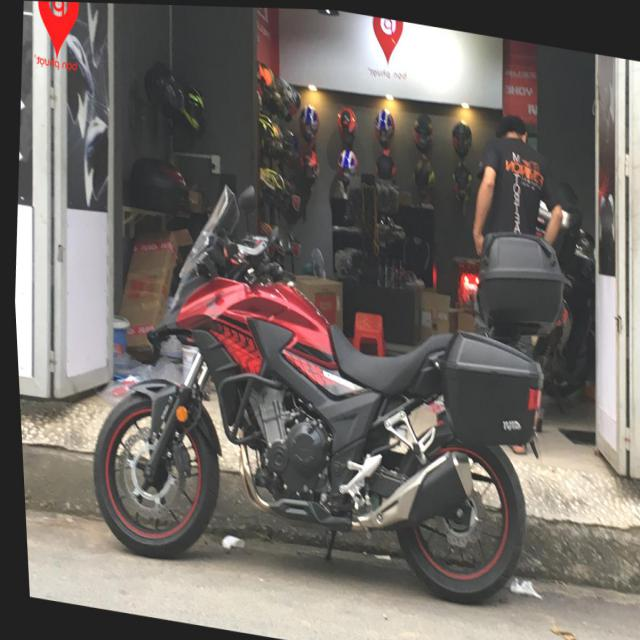CB500X: (68, 162, 561, 615)
